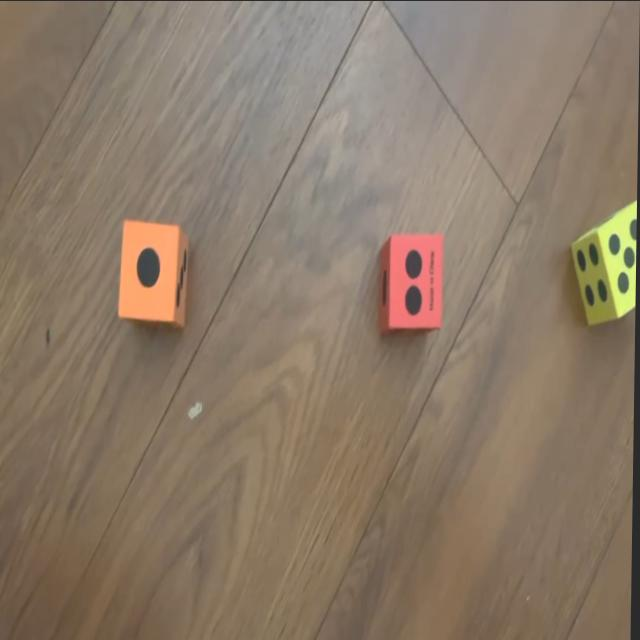red_block: (378, 232, 445, 331)
